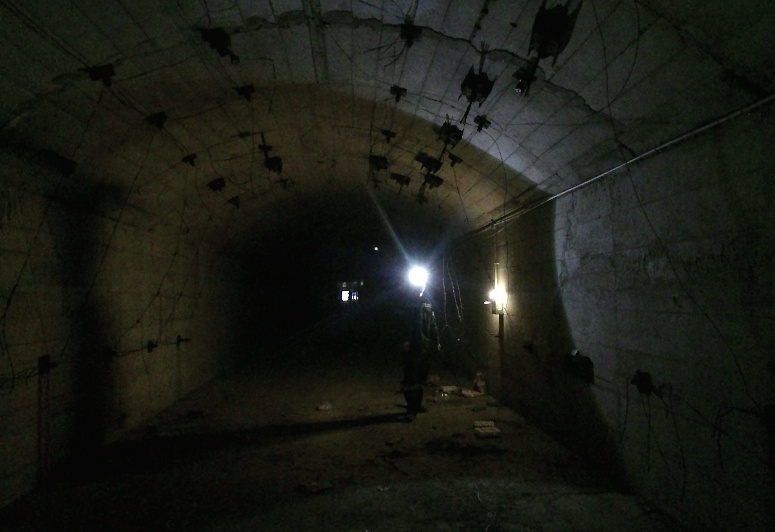person: (392, 274, 442, 422)
